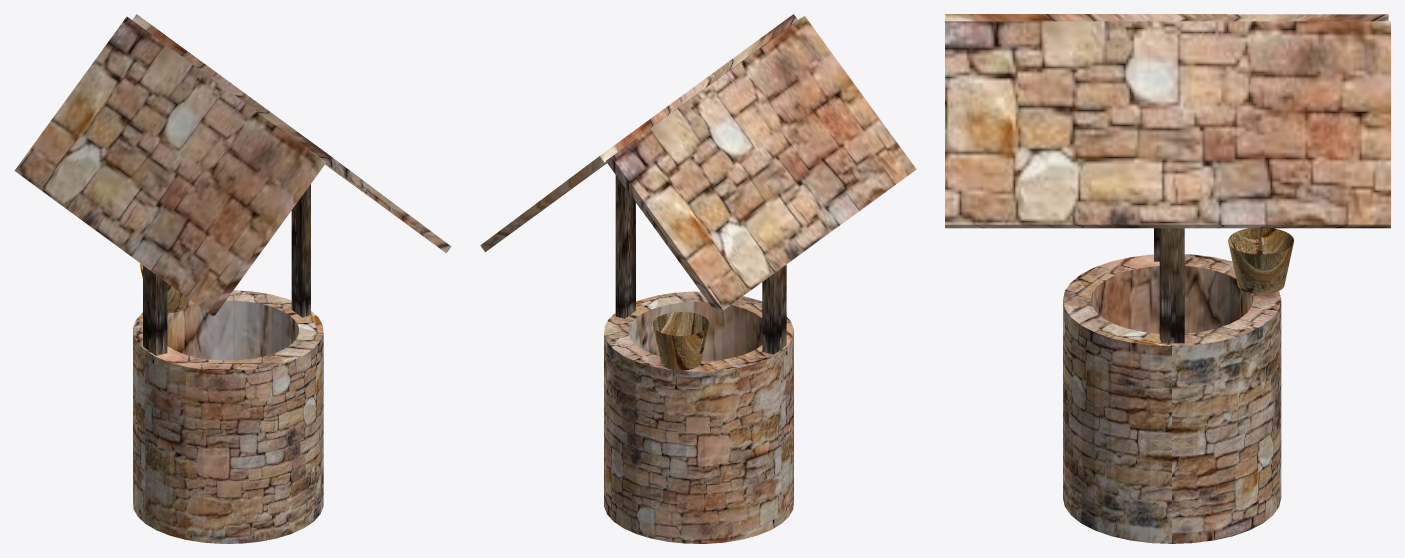
Rendered from well well - Copy.fbx.
The picture shows the model from 3 angles, left to right: view 1: azimuth 30°, elevation 25°; view 2: azimuth 150°, elevation 25°; view 3: azimuth 270°, elevation 25°; orthographic projection. The views are drawn at different scales.
Parts seen in each view (by area): view 1: Cylinder; view 2: Cylinder; view 3: Cylinder.
Boxes of the visible parts, x1,y1,x2,y2 form: Cylinder: (14, 14, 451, 543); Cylinder: (480, 14, 916, 543); Cylinder: (945, 14, 1390, 543).
Size of the model in its own units: 295 by 485 by 408.
